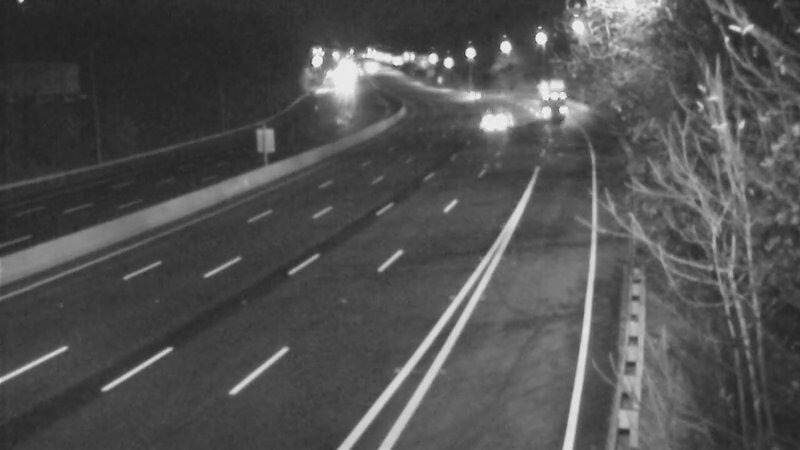vehicle: (445, 73, 495, 123), (523, 75, 573, 125), (470, 99, 520, 149)
